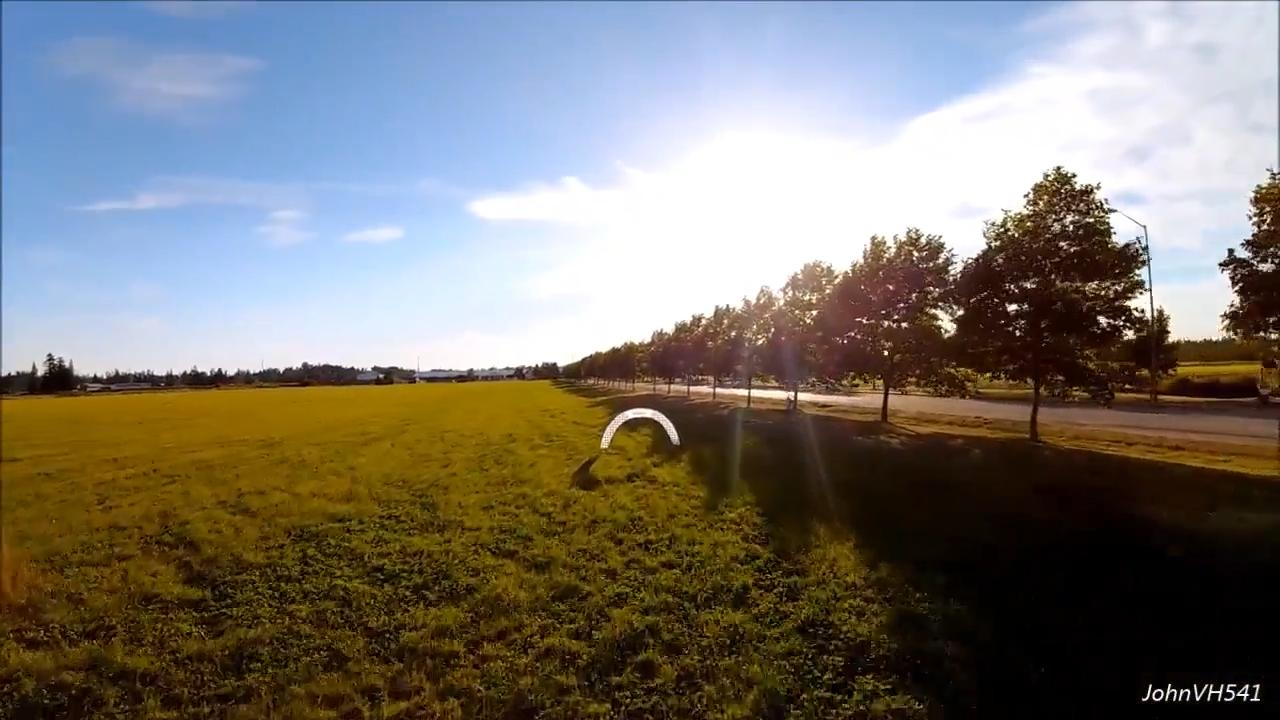gate: (597, 408, 679, 451)
